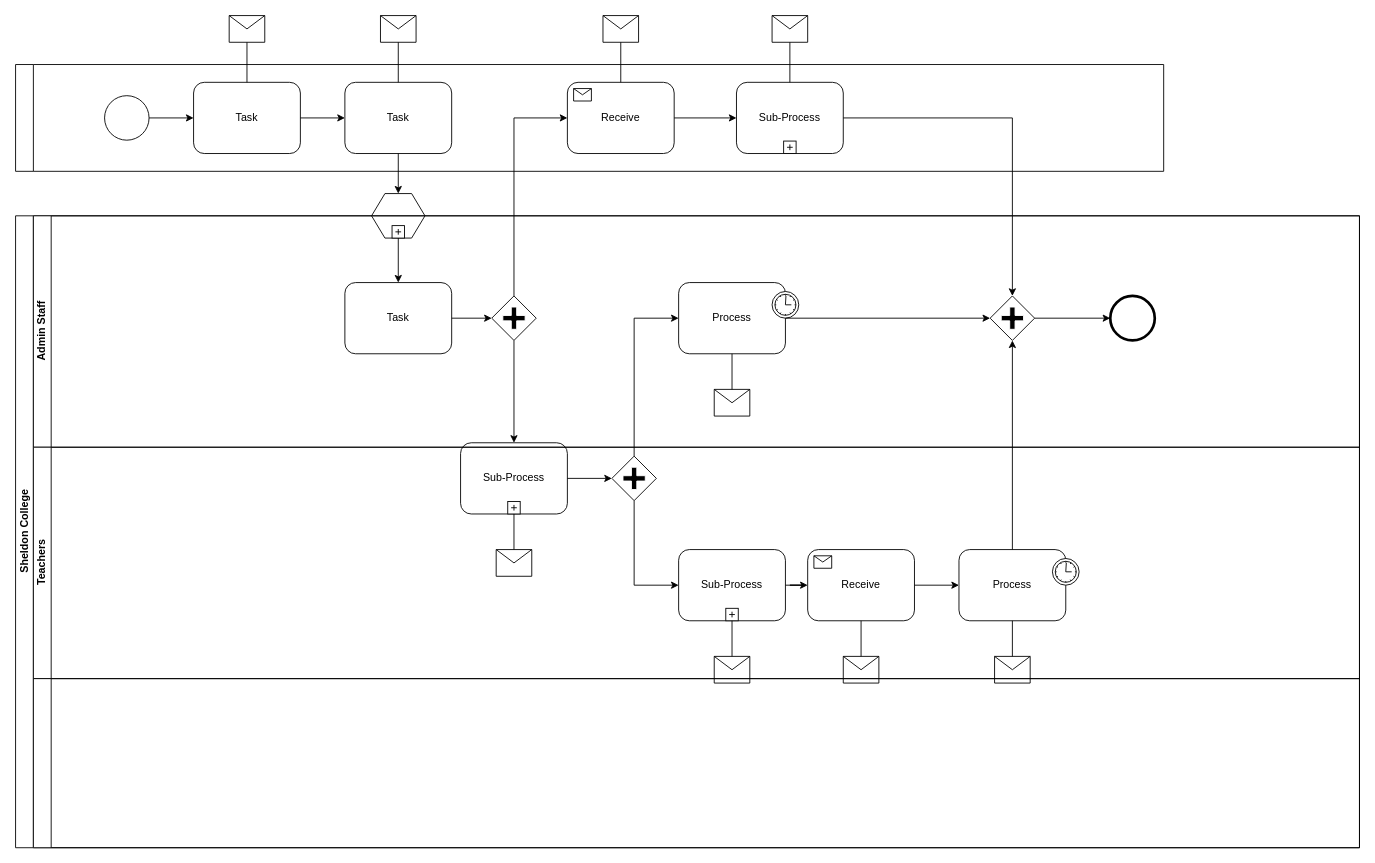
The diagram is 1375 pixels wide and 863 high, and some of its shapes have lost their labels. The shapes that lost their labels are listed below. From the top down, each one's box as (x1, y1, x2, y2) in pixels, then its label:
(15, 64, 1164, 171): Student
(32, 678, 1359, 848): Couch
